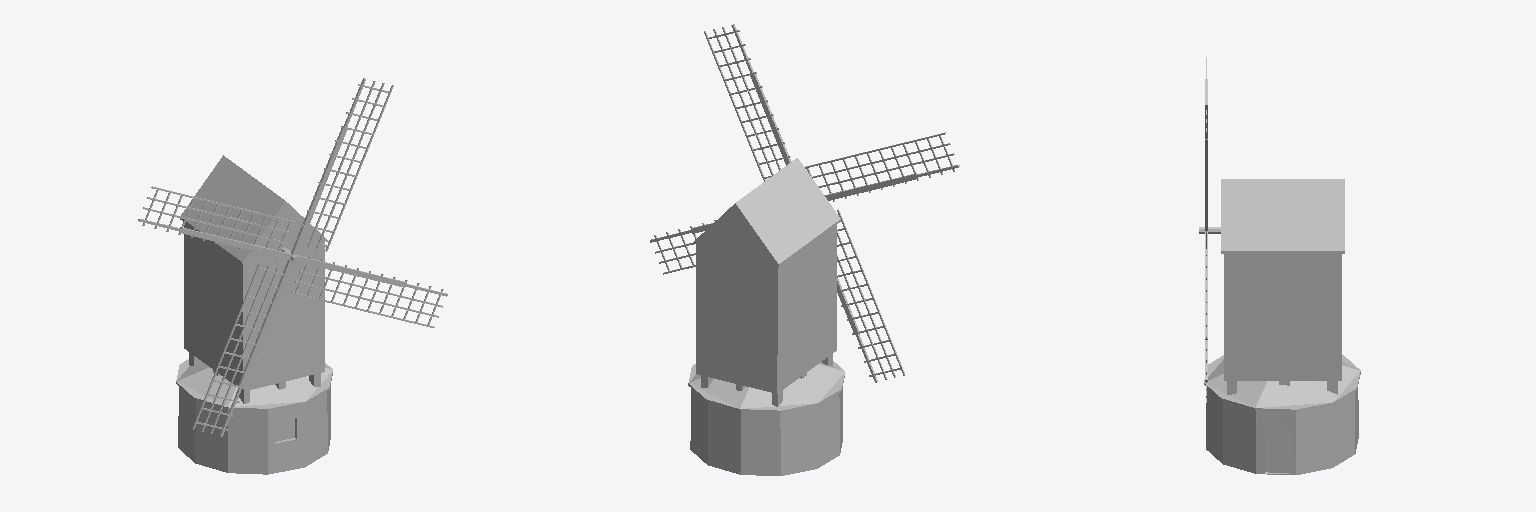
Rendered from windmill2.obj.
3 renders of one model, left to right at view 1: azimuth 30°, elevation 25°; view 2: azimuth 150°, elevation 25°; view 3: azimuth 270°, elevation 25°, orthographic.
Parts seen in each view (by area): view 1: windmill; view 2: windmill; view 3: windmill.
Boxes of the visible parts, box(x1,y1,x2,y2) form: windmill: box(138, 78, 447, 474); windmill: box(650, 24, 959, 475); windmill: box(1199, 57, 1360, 474).
Size of the model in its own units: 236 by 273 by 107.